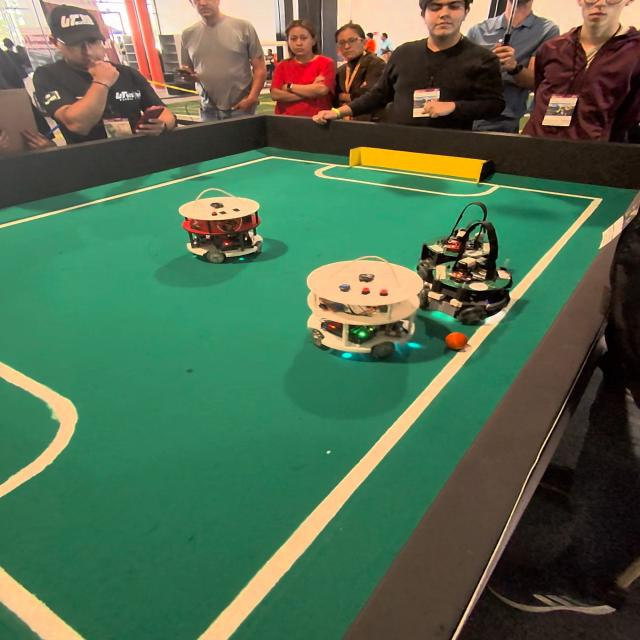Robot: (302, 242, 418, 372), (422, 200, 518, 338), (173, 183, 267, 271)
pelota: (444, 332, 470, 352)
